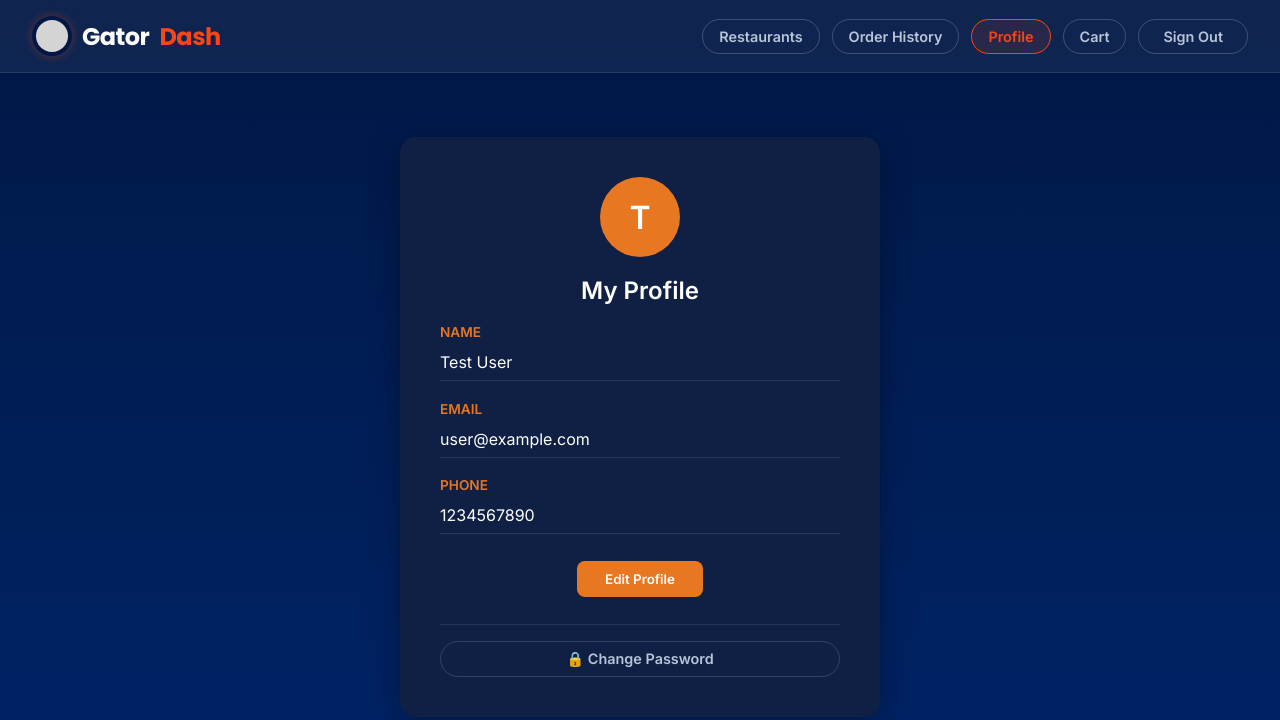
Profile Page - JWT Auth › shows edit form when Edit Profile is clicked
What coordinates should you click on to do the following:
click the button "Edit Profile"
I would click on:
 (640, 579)
Its box is [577, 561, 703, 597].
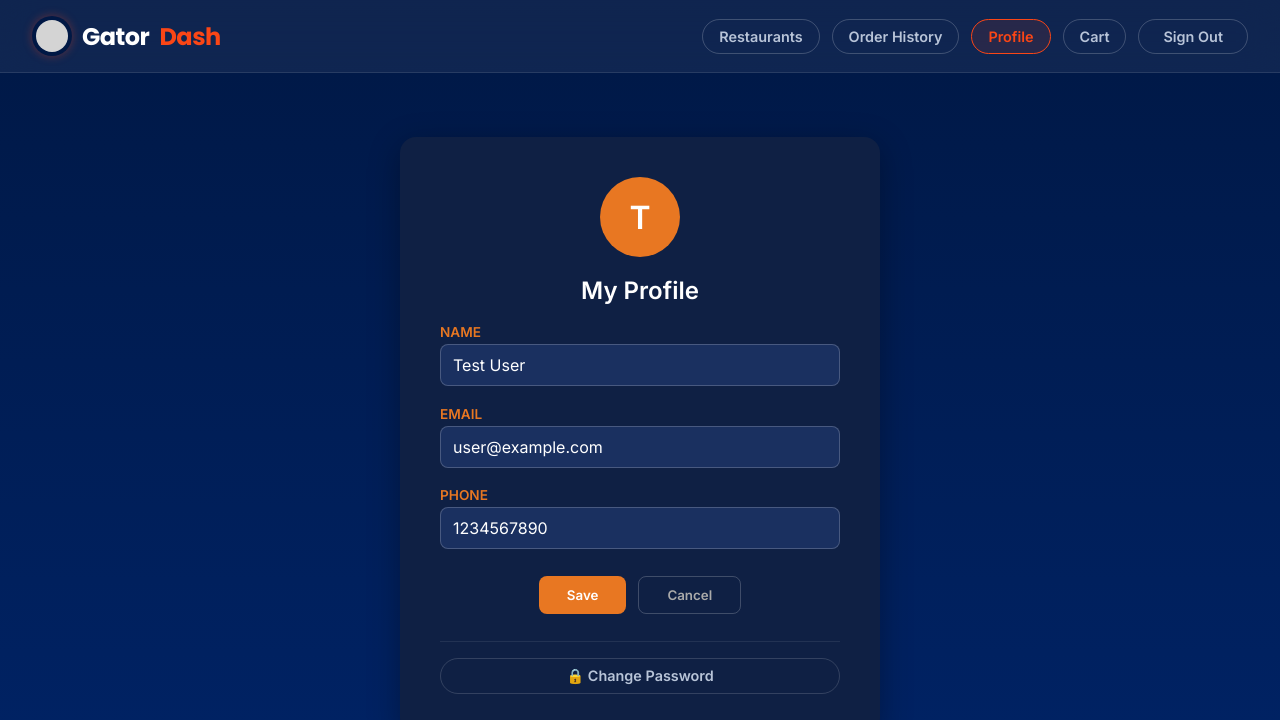
Now the button "Save" is shown, box [539, 576, 626, 614]
Now the button "Cancel" is shown, box [638, 576, 741, 614]
